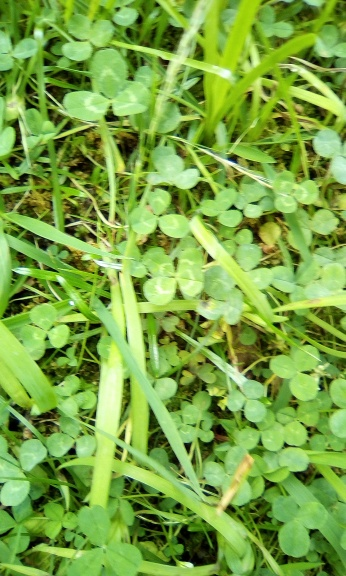4leaf: (143, 246, 204, 306)
